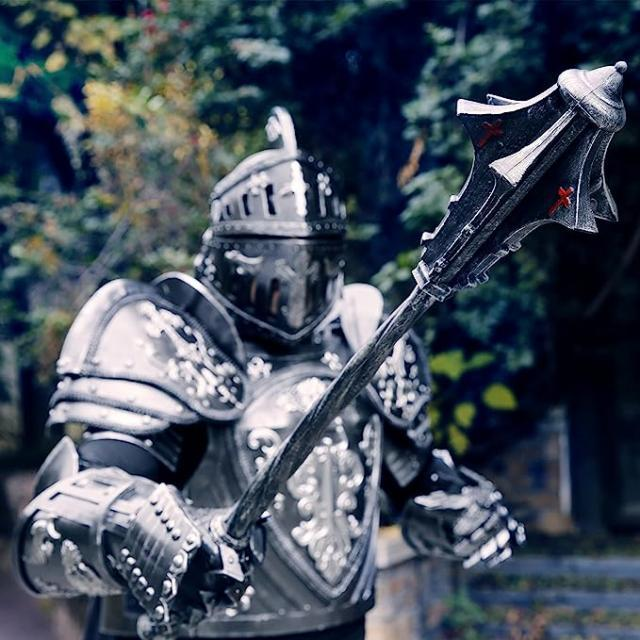mace: (213, 61, 631, 568)
